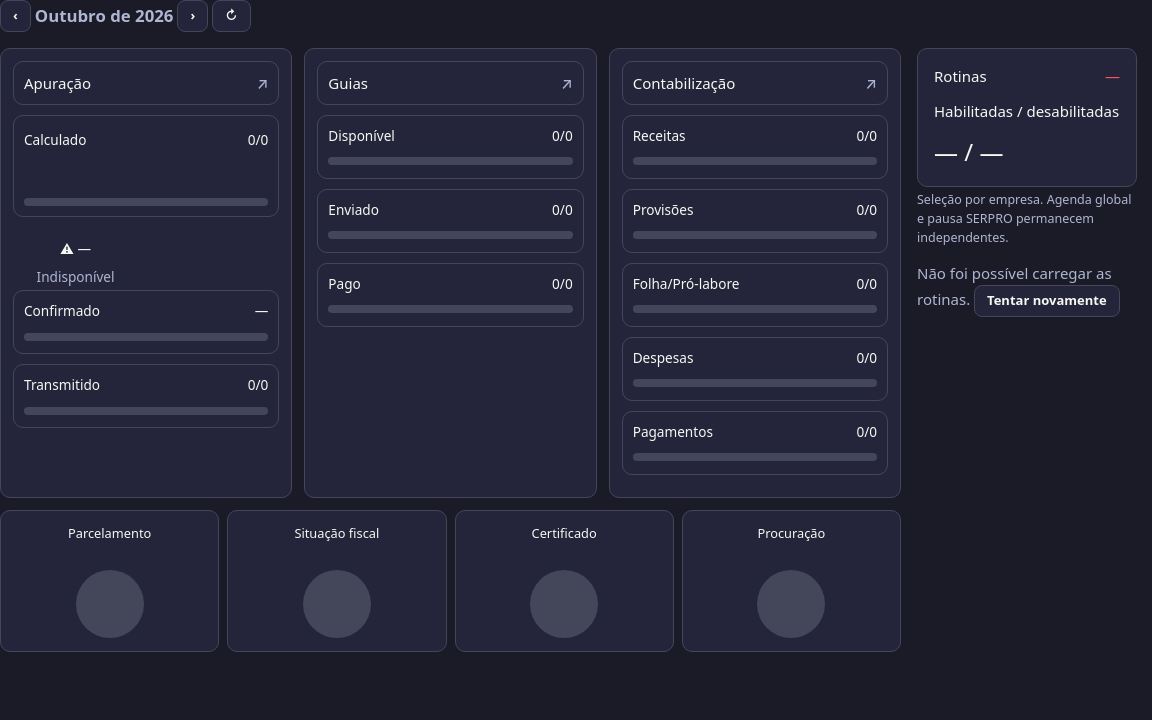
estrutura do protótipo preserva quatro pizzas, cinco controles e remove filas/calendário
Expected: the number of elements with class "operacoes-etapa" is 3, top-left (0, 48), bottom-right (292, 498); top-left (304, 48), bottom-right (597, 498); top-left (609, 48), bottom-right (901, 498)
Expected: the element named "Pagamentos 0/0 empresas" is shown, top-left (622, 411), bottom-right (888, 475)
Click the button "Contabilização" at (684, 83), box top-left (622, 61), bottom-right (888, 105)
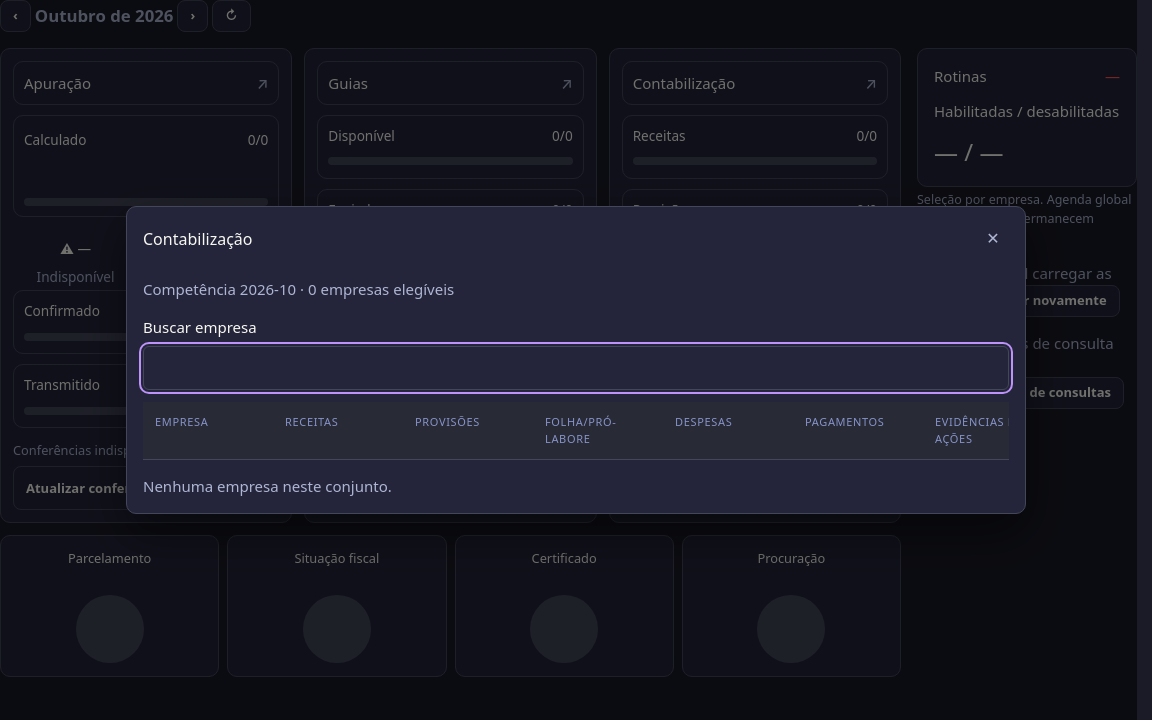
Result: the text "Nenhuma empresa neste conjunto." is shown at top-left (143, 476), bottom-right (392, 496)
